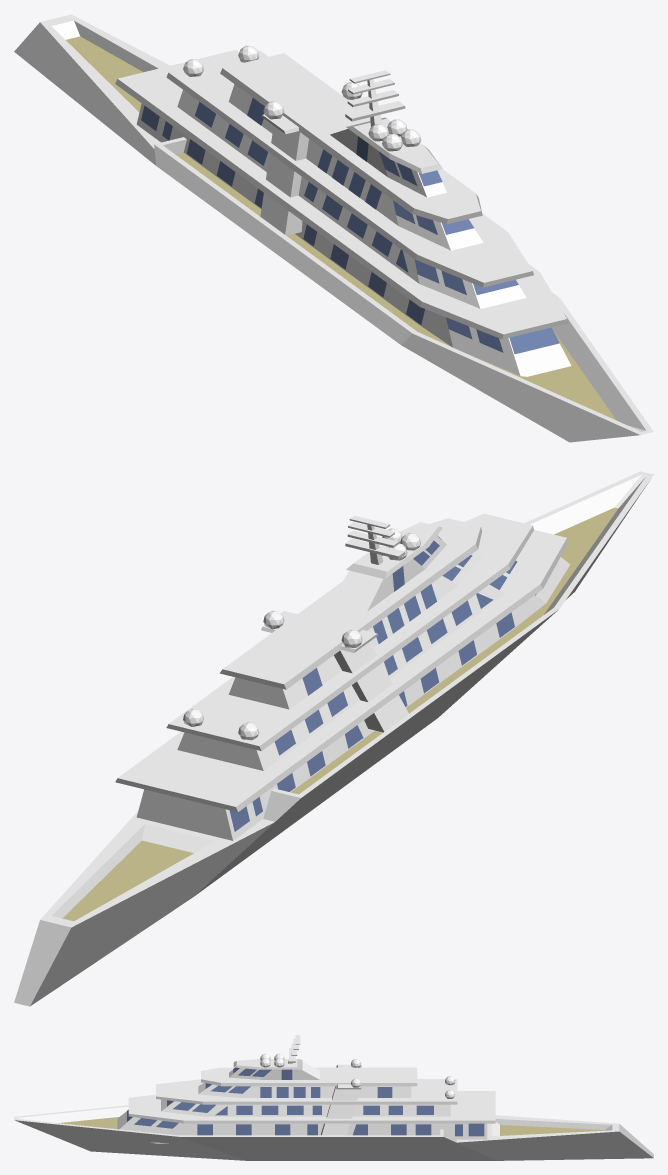
File: transport_water_004.glb
3 views of the same model, one above another, from view 1: azimuth 30°, elevation 25°; view 2: azimuth 150°, elevation 25°; view 3: azimuth 270°, elevation 25° (orthographic). The views are drawn at different scales.
Parts seen in each view (by area): view 1: transport_water_004; view 2: transport_water_004; view 3: transport_water_004.
Boxes of the visible parts, bbox=[...] form: transport_water_004: bbox=[14, 14, 653, 442]; transport_water_004: bbox=[14, 471, 653, 1006]; transport_water_004: bbox=[14, 1035, 653, 1160].
Bounding box in the file's own units: 4.12 × 6.11 × 30.33.
Materials: 1 (1 with a texture image).
